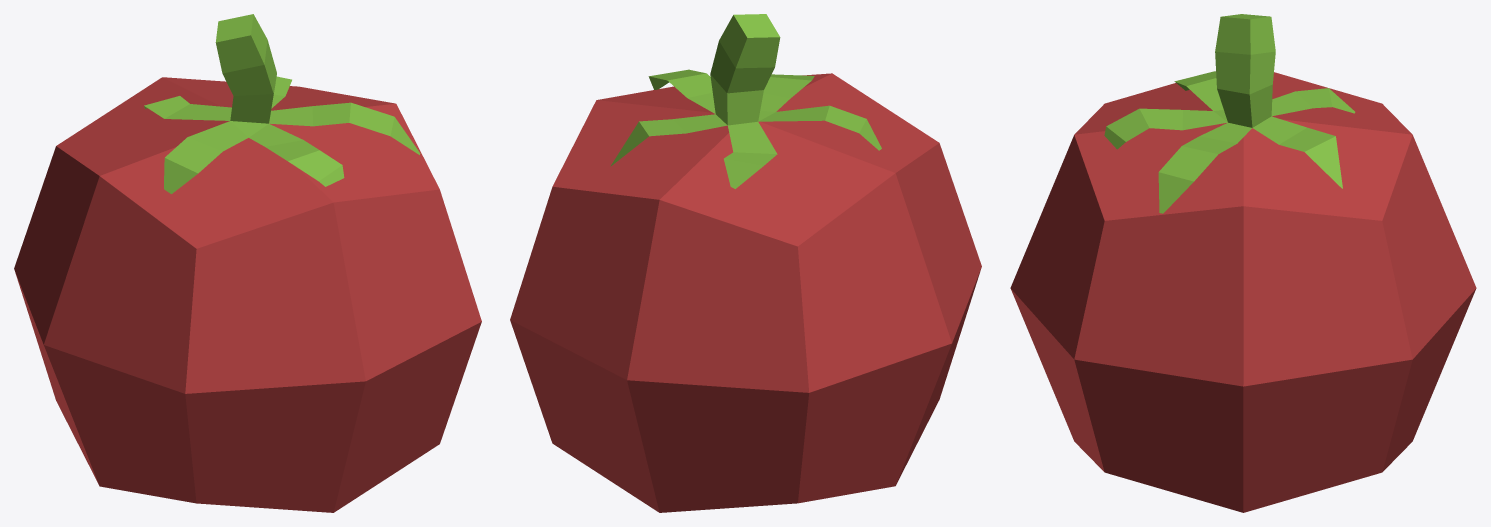
File: Tomato.fbx
3 renders of one model, left to right at view 1: azimuth 30°, elevation 25°; view 2: azimuth 150°, elevation 25°; view 3: azimuth 270°, elevation 25°, orthographic. The views are drawn at different scales.
Parts seen in each view (by area): view 1: Tomato; view 2: Tomato; view 3: Tomato.
Part boxes in pixels (x1,y1,x2,y2): Tomato: [14, 14, 481, 512]; Tomato: [510, 14, 981, 512]; Tomato: [1010, 14, 1476, 512].
Bounding box in the file's own units: 168 × 177 × 168.
